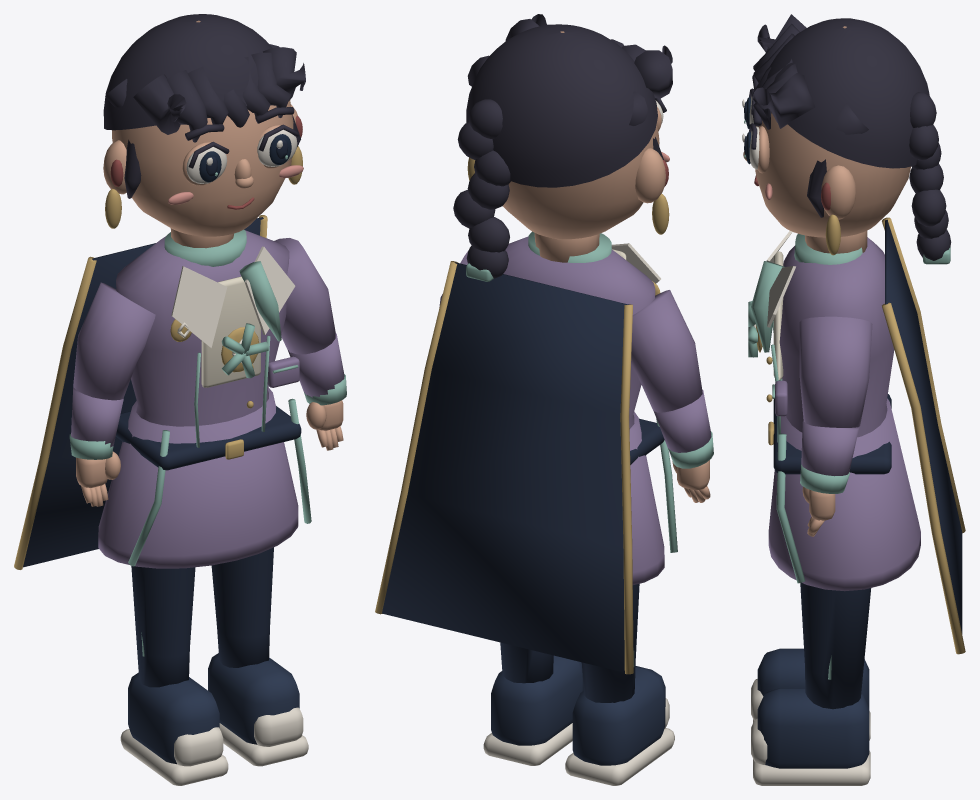
Rendered from npc_mistlake_trainer_3.glb.
The picture shows the model from 3 angles, left to right: view 1: azimuth 30°, elevation 25°; view 2: azimuth 150°, elevation 25°; view 3: azimuth 270°, elevation 25°; orthographic projection.
Parts seen in each view (by area): view 1: figure.028; view 2: figure.028; view 3: figure.028.
Boxes of the visible parts, x1,y1,x2,y2 form: figure.028: (14,14,346,785); figure.028: (375,14,713,785); figure.028: (742,14,965,785).
Size of the model in its own units: 0.6202 by 1.58 by 0.4392.
